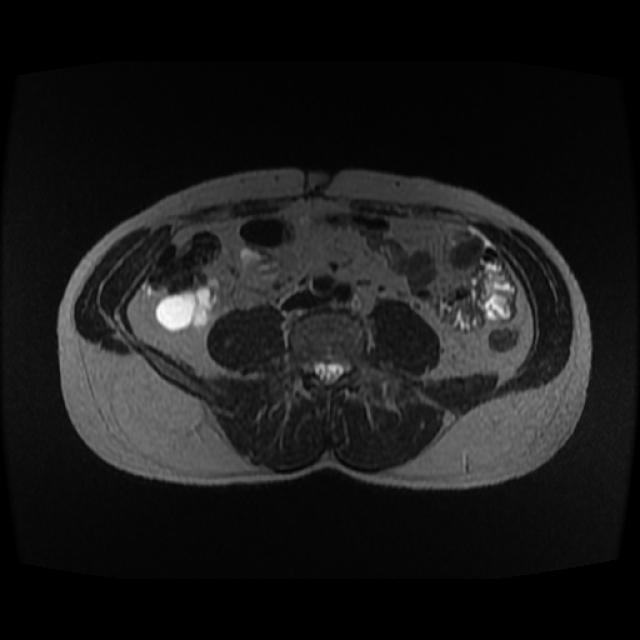sag: (152, 275, 236, 336)
